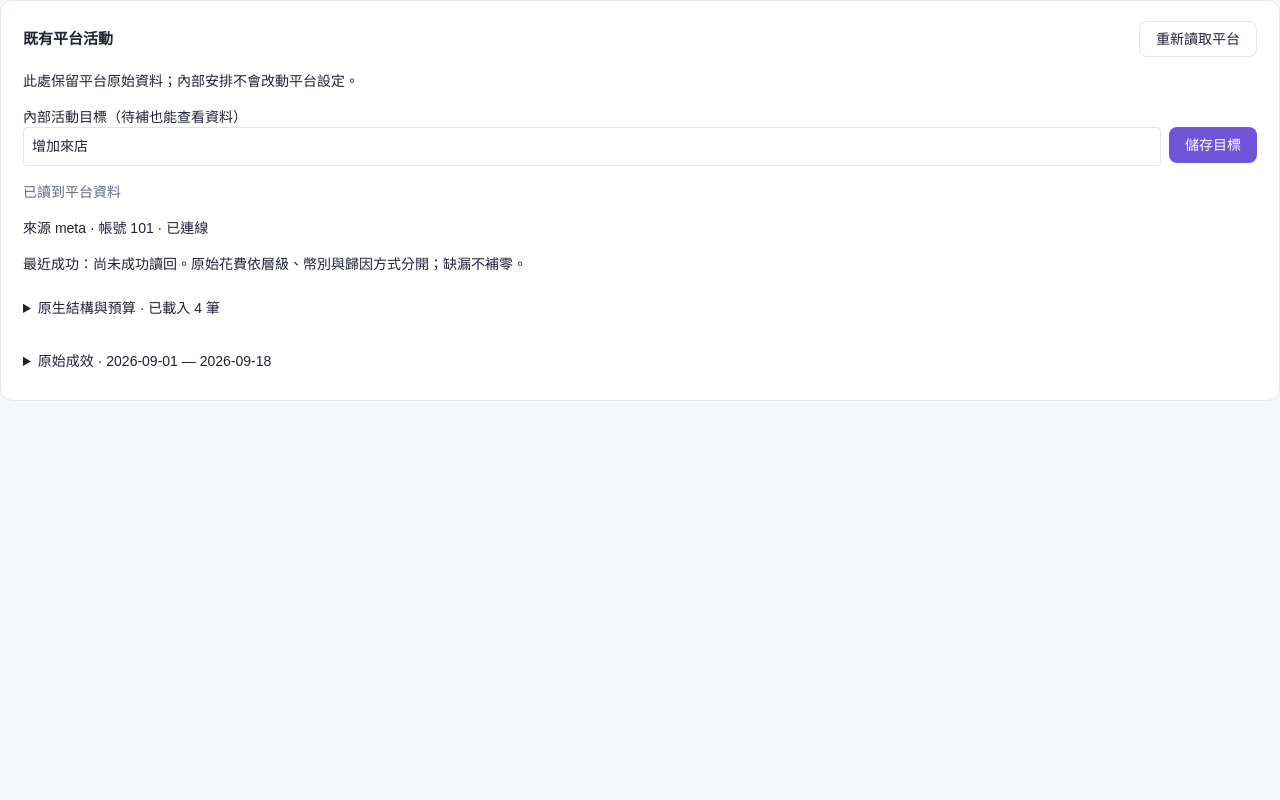
Test: 既有活動來源與原始資料 › 原生素材呈現圖片、影片縮圖、輪播與動態文字，影片不冒充可播放原檔
Click the heading "原生結構與預算 · 已載入 4 筆" at (129, 308), box x1=38 y1=300 x2=220 y2=316
(page scrolled)
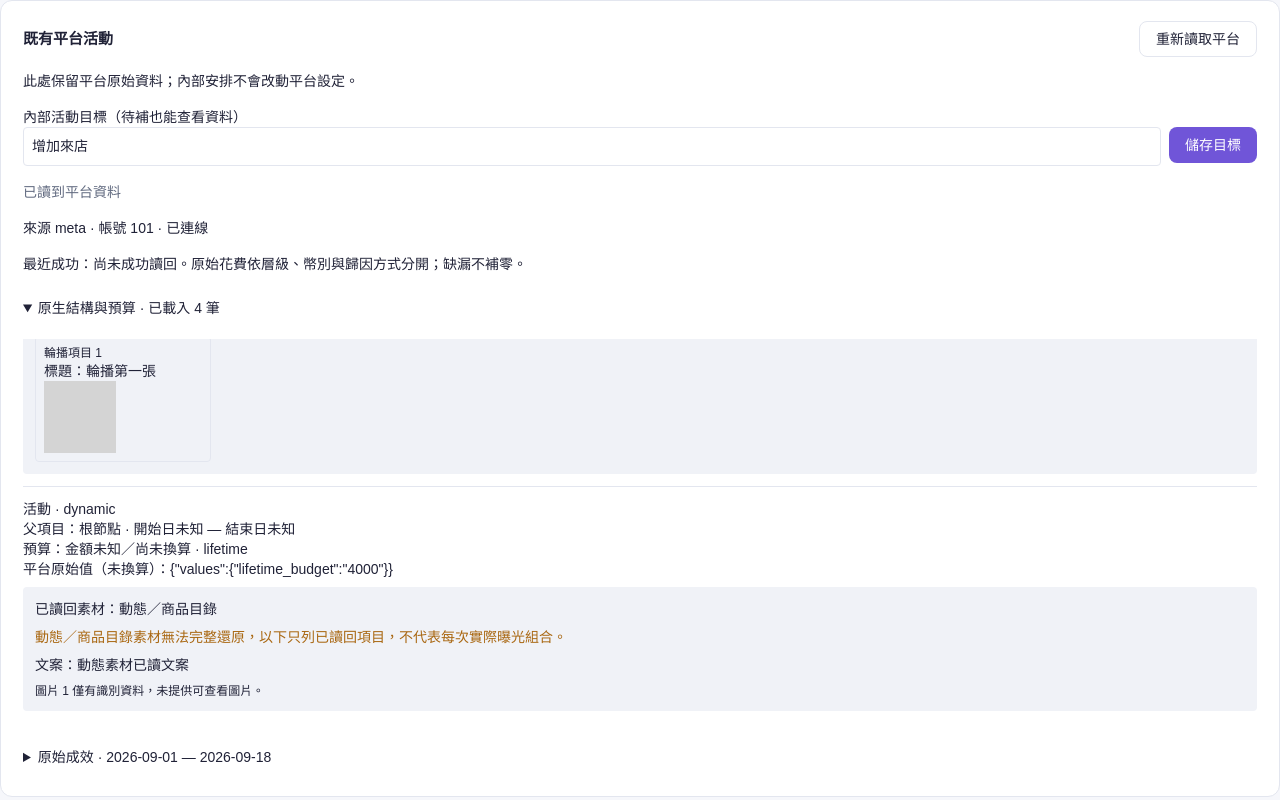
Result: the text "標題：輪播第一張" is shown at x1=44 y1=363 x2=156 y2=379
Result: the text "文案：動態素材已讀文案" is shown at x1=35 y1=657 x2=189 y2=673
Result: the text "動態／商品目錄素材無法完整還原，以下只列已讀回項目，不代表每次實際曝光組合。" is shown at x1=35 y1=629 x2=567 y2=645
